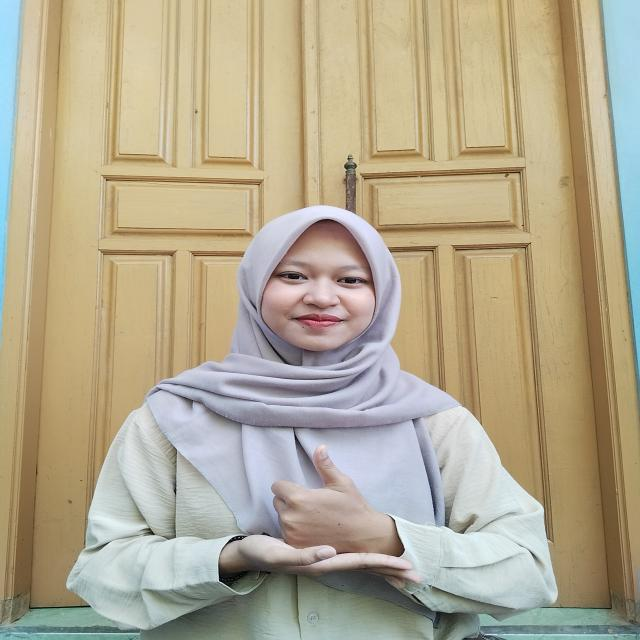cantik: (212, 438, 419, 610)
